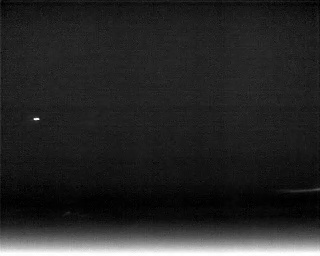AIRPLANE: (32, 115, 41, 123)
